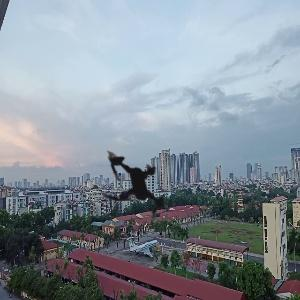drone: (67, 114, 210, 257)
